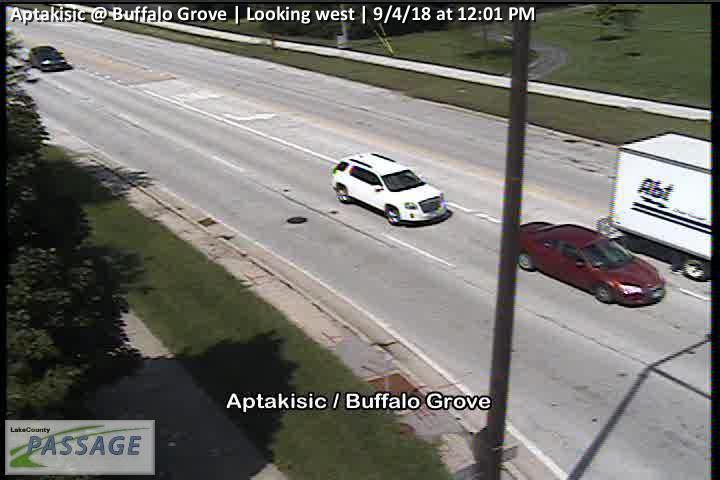SUV: (329, 151, 448, 226)
Sedan: (514, 221, 665, 308), (27, 46, 68, 73)
